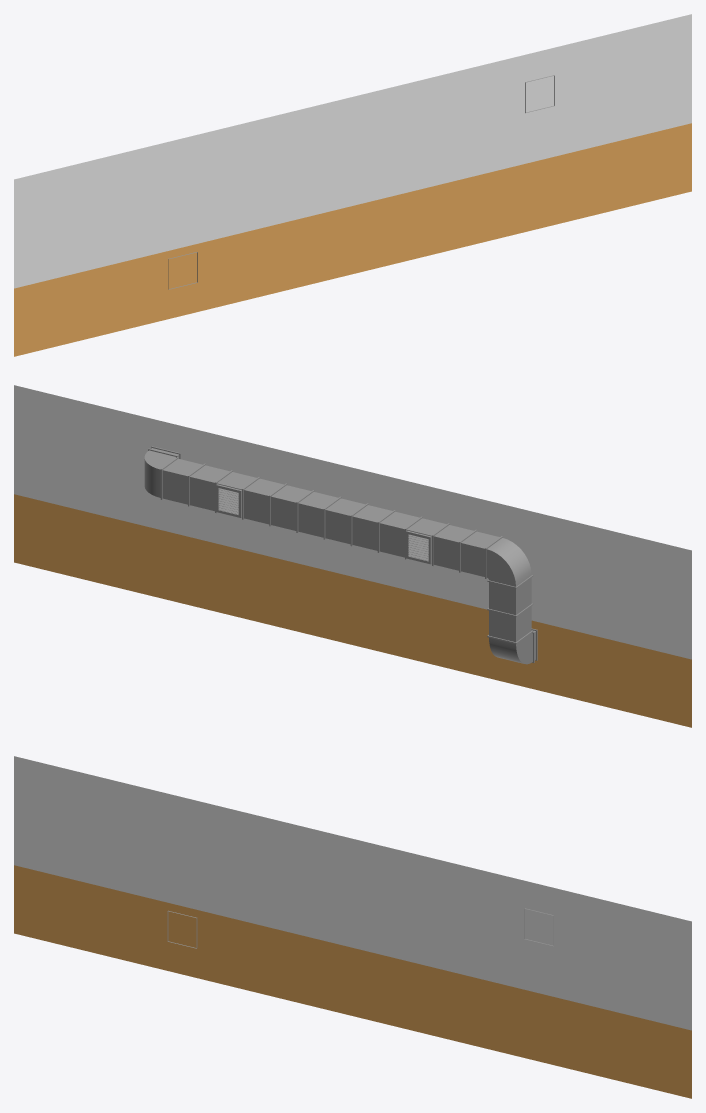
Rendered from wall_back.fbx.
3 renders of one model, top to bottom at view 1: azimuth 30°, elevation 25°; view 2: azimuth 150°, elevation 25°; view 3: azimuth 330°, elevation 25°, orthographic.
Visible parts, largest first — view 1: wall_back; view 2: wall_back; view 3: wall_back.
Part boxes in pixels (x1=…): wall_back: x1=14, y1=14, x2=691, y2=356; wall_back: x1=14, y1=385, x2=691, y2=727; wall_back: x1=14, y1=756, x2=691, y2=1098.
Bounding box in the file's own units: 2000 × 500 × 115.
